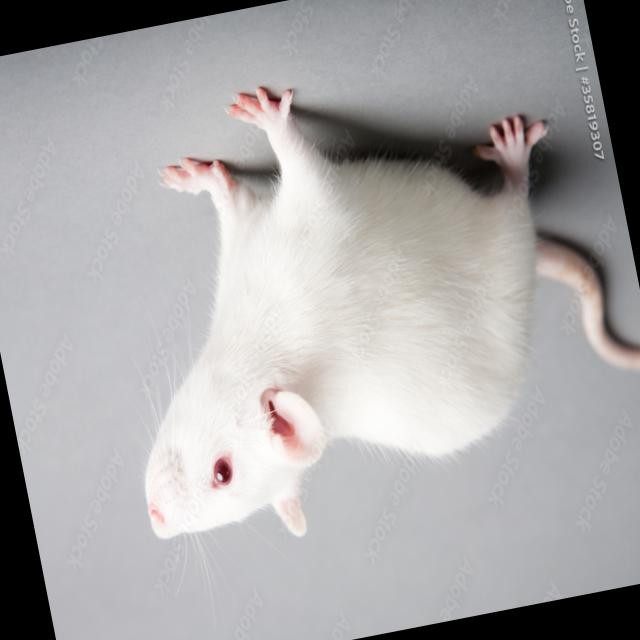rodents: (70, 38, 600, 564)
